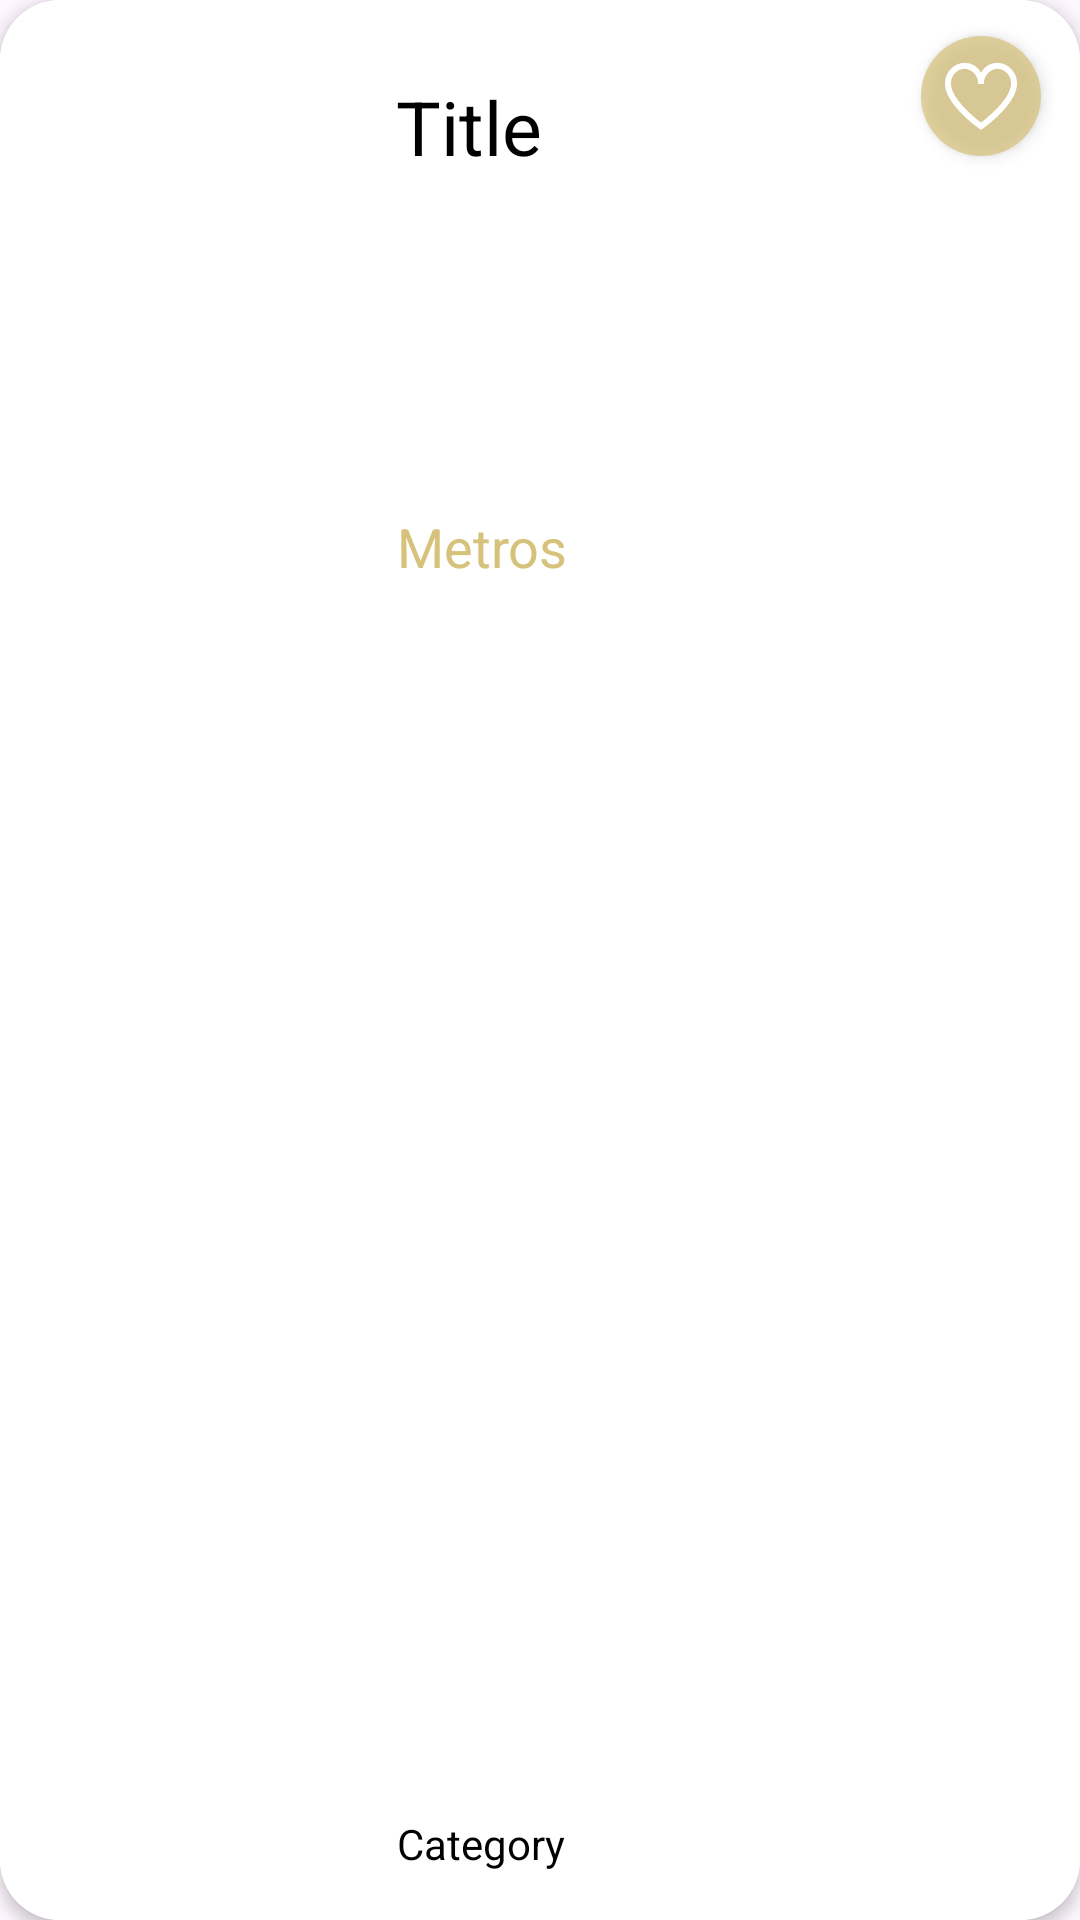

Where to tap for icons on this 1080px×1920px app screen, as (x,y):
heart: (981,96)
